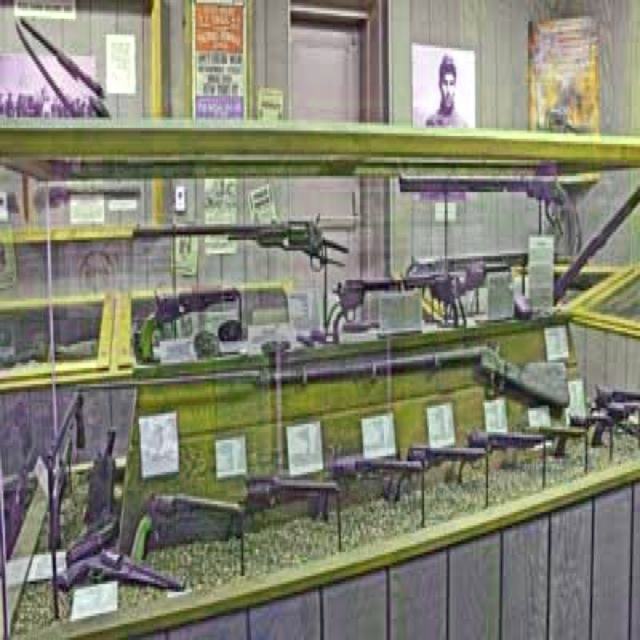gun: (123, 205, 355, 275), (318, 261, 445, 344)
